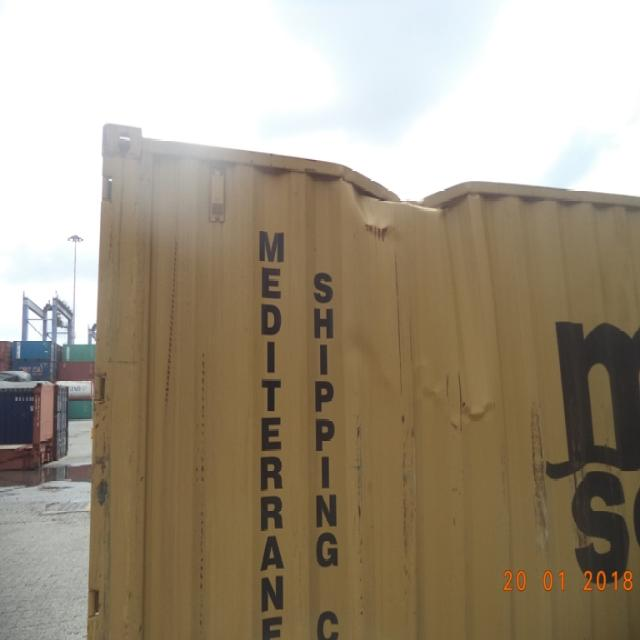dent: (313, 171, 509, 250), (400, 365, 502, 443)
